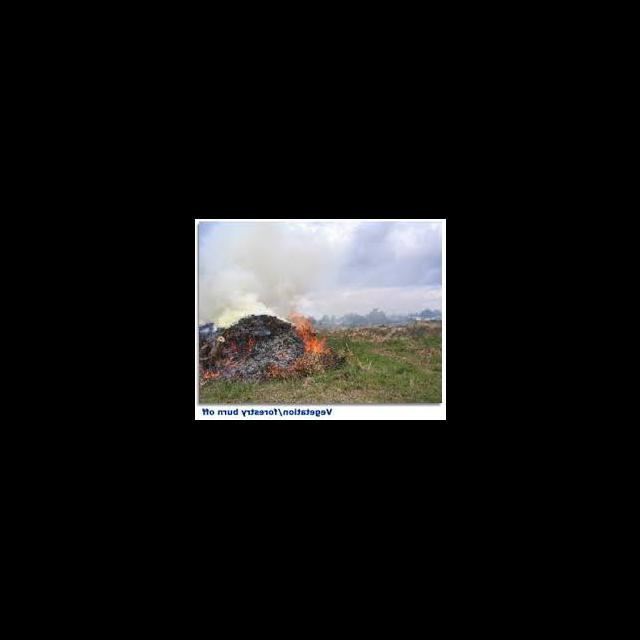Fire: (289, 314, 327, 356), (224, 338, 258, 367), (201, 367, 223, 383)
Smoke: (196, 227, 330, 312), (216, 312, 233, 326)
